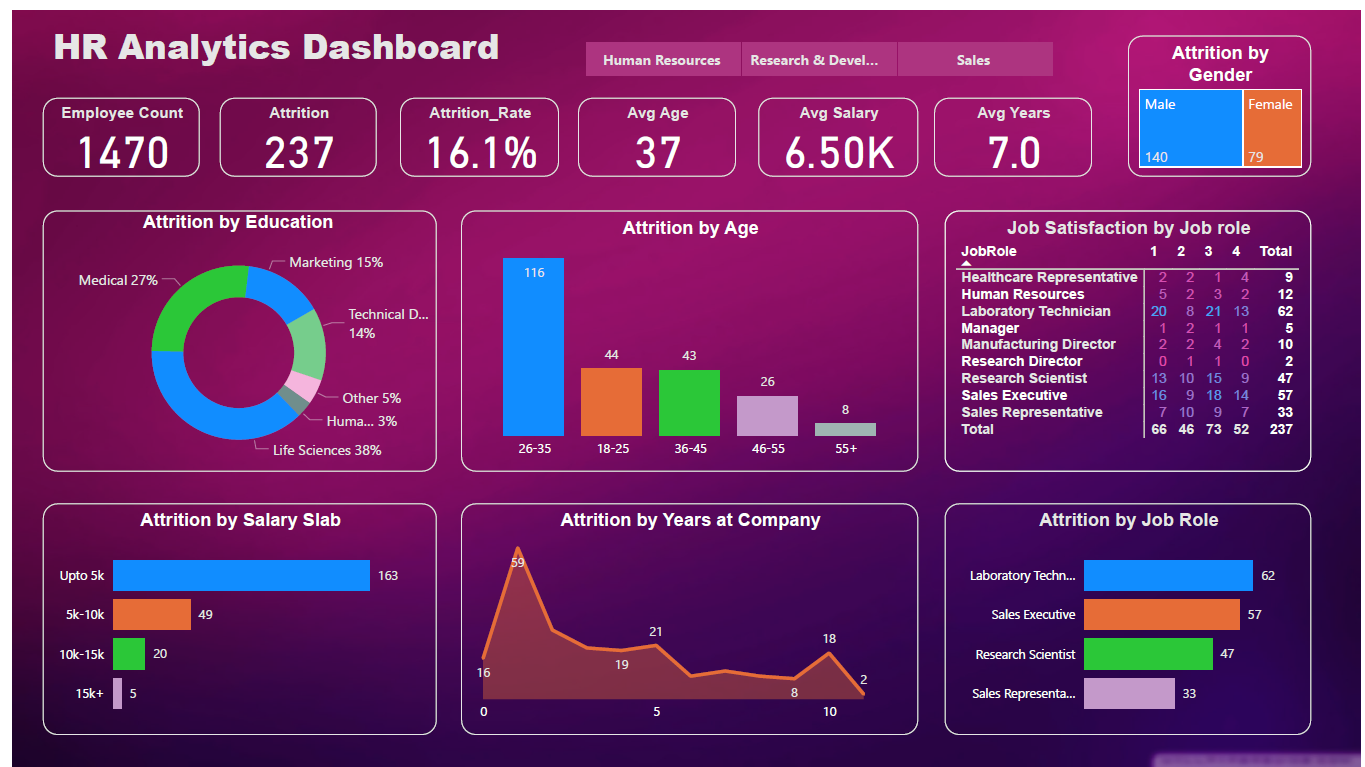

Layout of this report page (visuals, bound fields, positions):
{"tool":"powerbi","page":{"name":"Page 1","canvas":[1280,720],"ordinal":0},"visuals":[{"type":"card","title":"Employee Count","fields":{"Values":["Sum(HR_Analytics.EmployeeCount)"]},"box":[28.5,82.7,149.7,75.5],"z":0},{"type":"card","title":"Attrition","fields":{"Values":["Sum(HR_Analytics.Attrition_Count)"]},"box":[196.7,82.7,149.7,75.5],"z":1000},{"type":"card","title":"Attrition_Rate","fields":{"Values":["HR_Analytics.Attrition_rate"]},"box":[367.8,82.7,151.1,75.5],"z":2000},{"type":"card","title":"Avg Age","fields":{"Values":["Avg(HR_Analytics.Age)"]},"box":[537.4,82.7,149.7,75.5],"z":3000},{"type":"card","title":"Avg Salary","fields":{"Values":["Avg(HR_Analytics.MonthlyIncome)"]},"box":[708.4,82.7,151.1,75.5],"z":4000},{"type":"card","title":"Avg Years","fields":{"Values":["Avg(HR_Analytics.YearsAtCompany)"]},"box":[875.2,82.7,149.7,75.5],"z":5000},{"type":"donutChart","title":"Attrition by Education","fields":{"Category":["HR_Analytics.EducationField"],"Y":["Sum(HR_Analytics.Attrition_Count)"]},"box":[28.5,189.6,374.9,248],"z":6000},{"type":"columnChart","title":"Attrition by Age","fields":{"Category":["HR_Analytics.AgeGroup"],"Y":["Sum(HR_Analytics.Attrition_Count)"]},"box":[426.2,189.6,433.3,248],"z":7000},{"type":"pivotTable","title":"Job Satisfaction by Job role","fields":{"Rows":["HR_Analytics.JobRole"],"Columns":["HR_Analytics.JobSatisfaction"],"Values":["Sum(HR_Analytics.Attrition_Count)"]},"box":[885.2,189.9,347.8,248],"z":8000},{"type":"barChart","title":"Attrition by Salary Slab","fields":{"Category":["HR_Analytics.SalarySlab"],"Y":["Sum(HR_Analytics.Attrition_Count)"]},"box":[28.5,467.5,374.9,220.9],"z":9000},{"type":"barChart","title":"Attrition by Job Role","fields":{"Category":["HR_Analytics.JobRole","HR_Analytics.YearsAtCompany"],"Y":["Sum(HR_Analytics.Attrition_Count)"]},"box":[885.2,467.5,347.8,220.9],"z":10000},{"type":"areaChart","title":"Attrition by Years at Company","fields":{"Category":["HR_Analytics.YearsAtCompany"],"Y":["Sum(HR_Analytics.Attrition_Count)"]},"box":[426.2,467.5,433.3,220.9],"z":11000},{"type":"treemap","title":"Attrition by Gender","fields":{"Values":["Sum(HR_Analytics.Attrition_Count)"],"Group":["HR_Analytics.Gender"]},"box":[1059.1,24.2,173.9,134],"z":12000},{"type":"slicer","fields":{"Values":["HR_Analytics.Department"]},"box":[518.8,24.2,491.8,44.2],"z":13000},{"type":"textbox","box":[14.3,5.7,473.2,62.7],"z":14000}]}

Visuals, with their boxes in screenshot pixels (x1, y1, x2, y2), scaled from the page's 1280x720 canvas onto the 1365x767 screenshot:
"Employee Count" card: BBox(30, 88, 190, 169)
"Attrition" card: BBox(210, 88, 369, 169)
"Attrition_Rate" card: BBox(392, 88, 553, 169)
"Avg Age" card: BBox(573, 88, 733, 169)
"Avg Salary" card: BBox(755, 88, 917, 169)
"Avg Years" card: BBox(933, 88, 1093, 169)
"Attrition by Education" donutChart: BBox(30, 202, 430, 466)
"Attrition by Age" columnChart: BBox(455, 202, 917, 466)
"Job Satisfaction by Job role" pivotTable: BBox(944, 202, 1315, 466)
"Attrition by Salary Slab" barChart: BBox(30, 498, 430, 733)
"Attrition by Job Role" barChart: BBox(944, 498, 1315, 733)
"Attrition by Years at Company" areaChart: BBox(455, 498, 917, 733)
"Attrition by Gender" treemap: BBox(1129, 26, 1315, 169)
slicer - HR_Analytics.Department: BBox(553, 26, 1078, 73)
textbox: BBox(15, 6, 520, 73)
